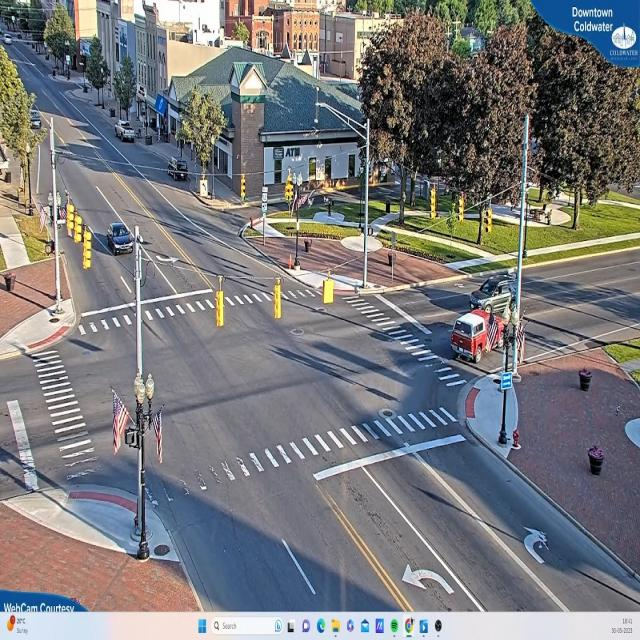car: (448, 310, 504, 358), (468, 277, 512, 318), (108, 221, 135, 253), (118, 121, 138, 142)
